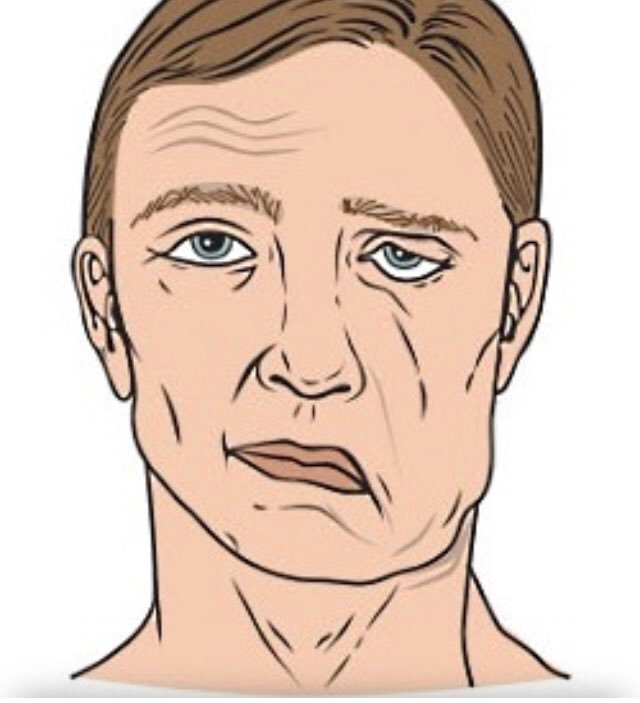stroke: (110, 82, 501, 582)
